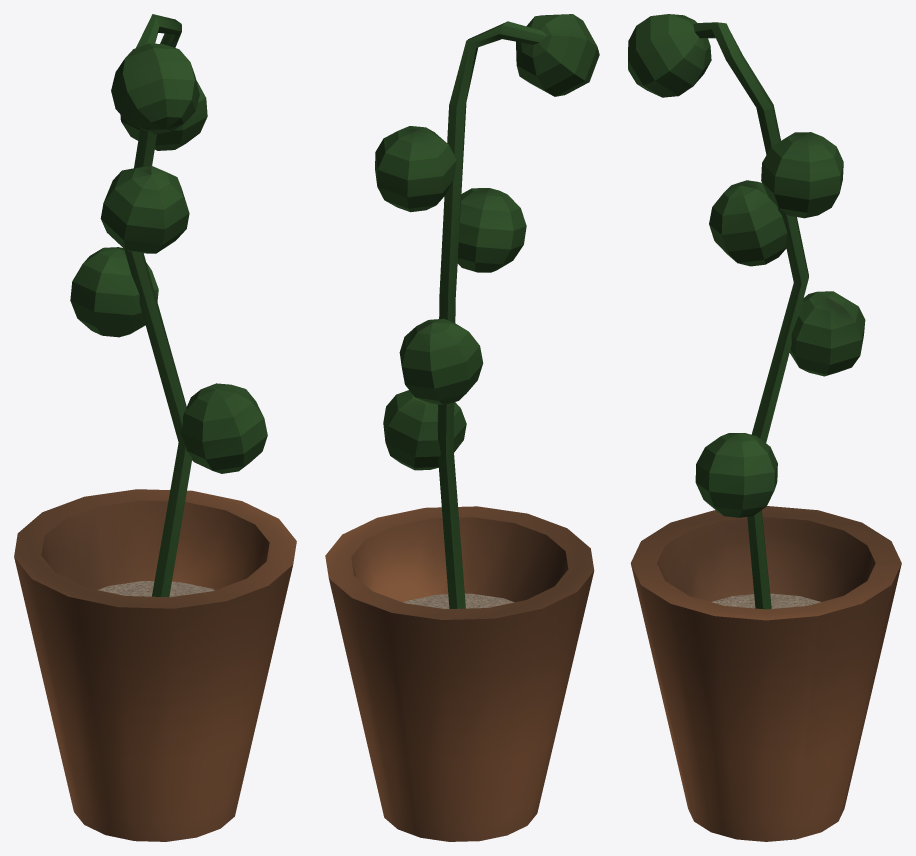
The model's file is HUBPlant.fbx.
The picture shows the model from 3 angles, left to right: view 1: azimuth 30°, elevation 25°; view 2: azimuth 150°, elevation 25°; view 3: azimuth 270°, elevation 25°; orthographic projection. The views are drawn at different scales.
Visible parts, largest first — view 1: pCylinder1, pCylinder2, pSphere4, pSphere5, pSphere2, pSphere3, pSphere1; view 2: pCylinder1, pCylinder2, pSphere3, pSphere1, pSphere4, pSphere2, pSphere5; view 3: pCylinder1, pCylinder2, pSphere5, pSphere1, pSphere4, pSphere3, pSphere2.
Boxes of the visible parts, bbox=[...] form: pCylinder1: bbox=[14, 489, 296, 841]; pCylinder2: bbox=[124, 14, 191, 597]; pSphere4: bbox=[111, 43, 199, 134]; pSphere5: bbox=[180, 383, 267, 473]; pSphere2: bbox=[100, 165, 189, 253]; pSphere3: bbox=[70, 247, 158, 337]; pSphere1: bbox=[120, 80, 207, 150]; pCylinder1: bbox=[325, 506, 594, 841]; pCylinder2: bbox=[437, 21, 546, 608]; pSphere3: bbox=[399, 318, 483, 405]; pSphere1: bbox=[375, 126, 456, 212]; pSphere4: bbox=[516, 14, 599, 96]; pSphere2: bbox=[457, 188, 526, 272]; pSphere5: bbox=[383, 390, 466, 470]; pCylinder1: bbox=[630, 506, 901, 841]; pCylinder2: bbox=[693, 22, 808, 609]; pSphere5: bbox=[695, 433, 777, 517]; pSphere1: bbox=[761, 132, 843, 218]; pSphere4: bbox=[628, 14, 711, 97]; pSphere3: bbox=[789, 291, 865, 376]; pSphere2: bbox=[709, 180, 787, 266].
Size of the model in its own units: 10.53 by 33.21 by 10.63.
